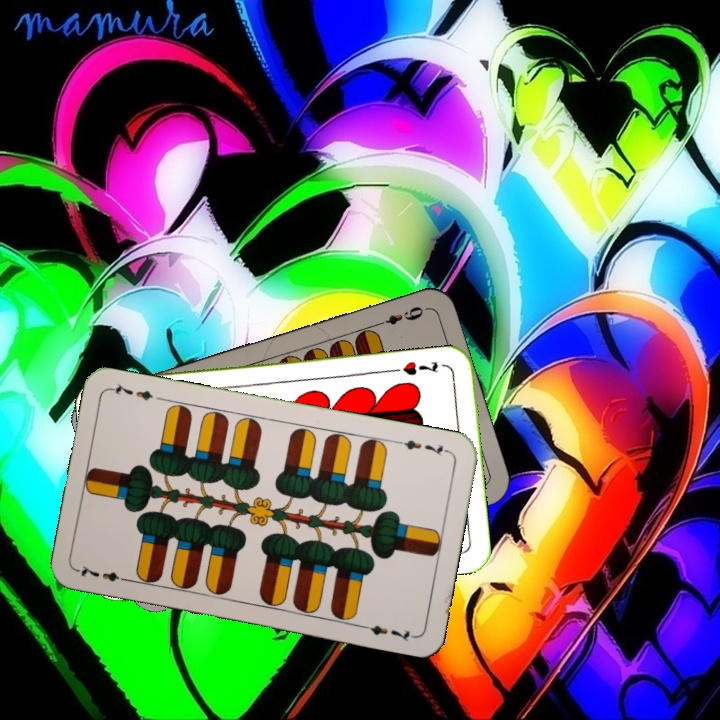E7: (393, 435, 452, 459), (75, 561, 133, 585)
E9: (371, 302, 428, 329)
H7: (398, 357, 441, 378)
